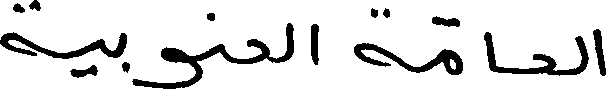ا: (592, 27, 604, 77), (483, 30, 495, 72), (310, 21, 317, 64)
ب: (115, 31, 126, 73)
ة: (354, 5, 396, 66), (0, 0, 38, 56)
ع: (248, 37, 271, 65), (533, 51, 555, 75)
ل: (575, 34, 587, 75), (284, 20, 295, 61)
م: (430, 41, 462, 75)
ن: (202, 10, 225, 60)
و: (132, 45, 204, 87)
ي: (70, 36, 106, 79)
